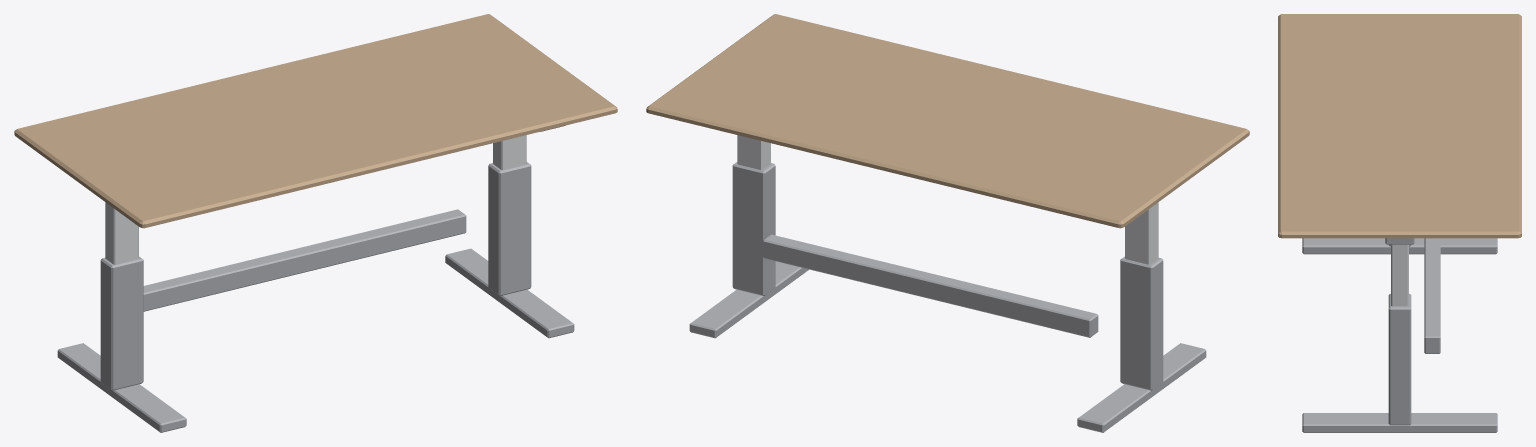
File: computers-and-desk-gadgets-desk-1600-sitstand-07f6eabd__38860.glb
The picture shows the model from 3 angles, left to right: view 1: azimuth 30°, elevation 25°; view 2: azimuth 150°, elevation 25°; view 3: azimuth 270°, elevation 25°; orthographic projection. The views are drawn at different scales.
Parts seen in each view (by area): view 1: desk-1600-sitstand; view 2: desk-1600-sitstand; view 3: desk-1600-sitstand.
Part boxes in pixels (bbox=[...]): desk-1600-sitstand: bbox=[14, 14, 617, 432]; desk-1600-sitstand: bbox=[646, 14, 1249, 432]; desk-1600-sitstand: bbox=[1278, 14, 1521, 432].
Bounding box in the file's own units: 1.6 × 0.73 × 0.7501.
